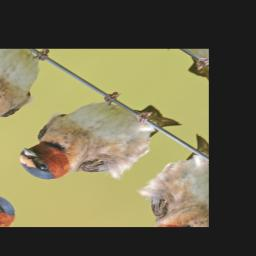Swallow: (4, 71, 184, 211)
